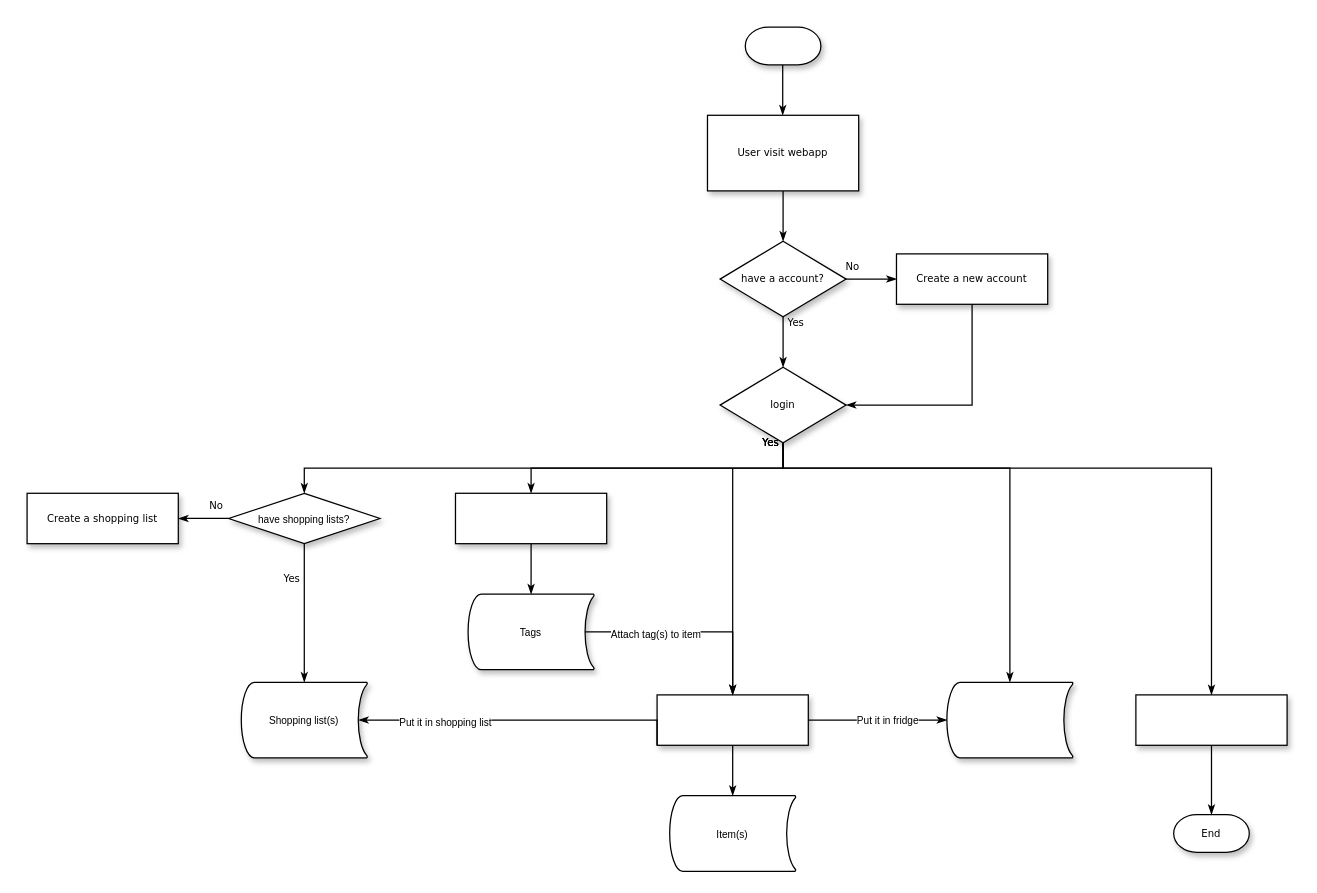
Some shapes in this 1317 by 893 pixel diagram are drawn without their labels. The shapes that lost their labels are listed below. From the top down, each one's centre as x and y in pixels, then its label:
the point at 783,47: Start
the point at 531,520: Create tags
the point at 733,721: Add an item
the point at 1010,721: Fridge
the point at 1212,721: Log out
